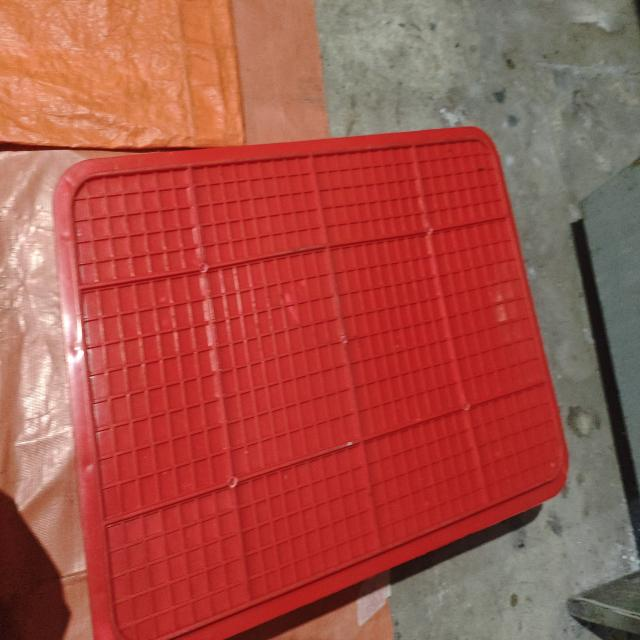red plastic box: (53, 125, 569, 640)
